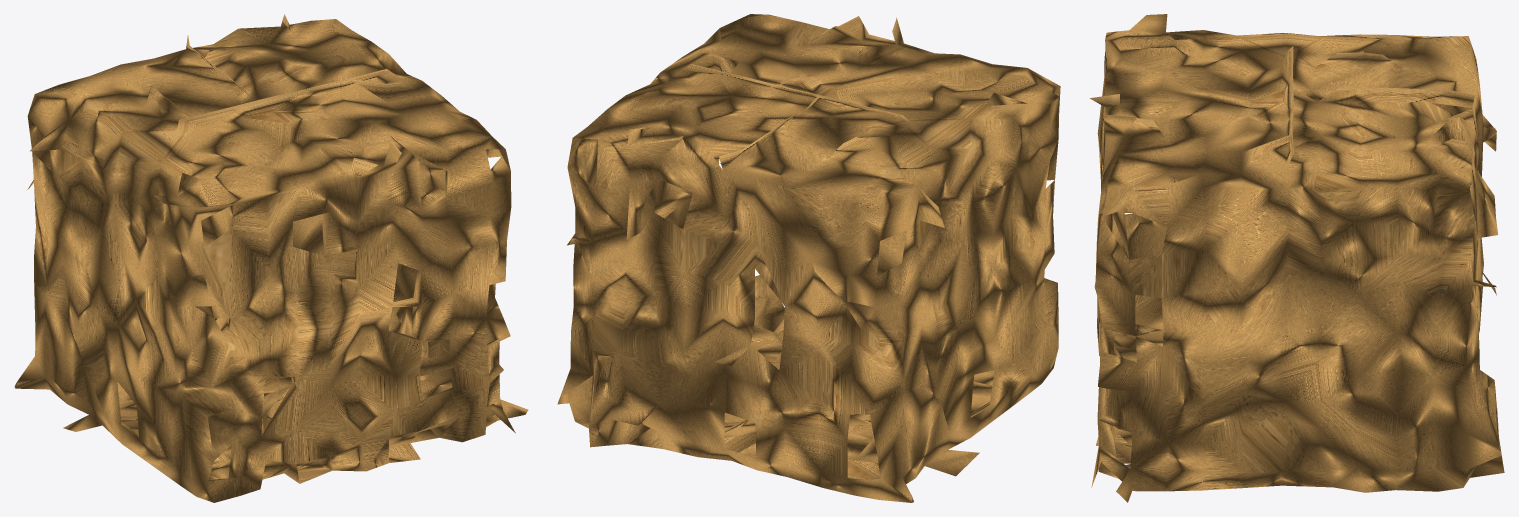
The model's file is hay-bale-lite.glb.
3 renders of one model, left to right at view 1: azimuth 30°, elevation 25°; view 2: azimuth 150°, elevation 25°; view 3: azimuth 270°, elevation 25°, orthographic. The views are drawn at different scales.
Size of the model in its own units: 1.81 by 1.48 by 1.7.
Materials: 1 (1 with a texture image).
